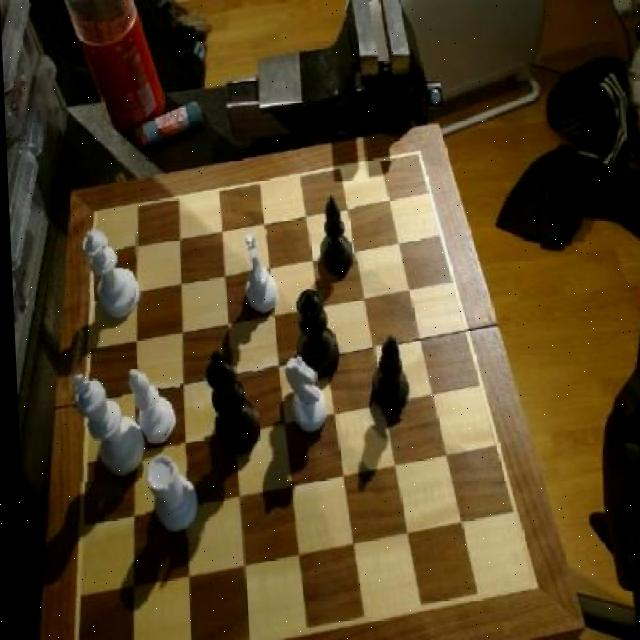bishop: (314, 190, 356, 278), (367, 336, 409, 420)
black-bishop: (197, 348, 263, 459)
black-pawn: (289, 289, 340, 380)
black-rook: (120, 364, 179, 446)
white-bishop: (67, 371, 145, 482)
white-king: (236, 229, 279, 317), (280, 356, 327, 434)
white-pawn: (78, 228, 139, 323)
white-queen: (139, 454, 200, 538)
